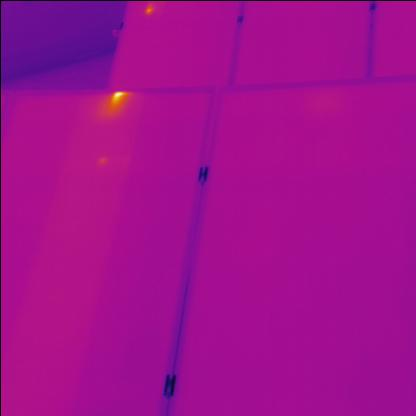hotspot: (98, 87, 136, 119)
